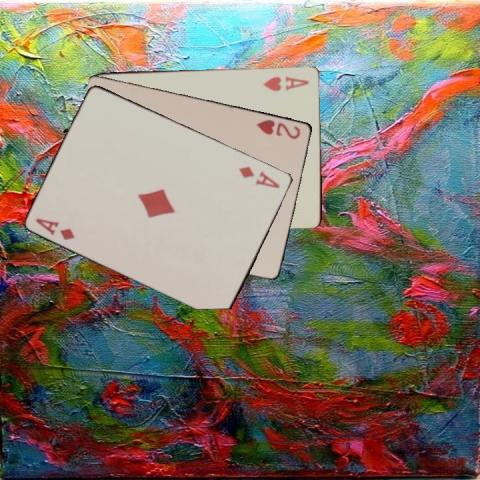2h: (254, 116, 302, 140)
Ad: (236, 163, 282, 189), (33, 215, 76, 242)
Ah: (260, 73, 311, 92)
